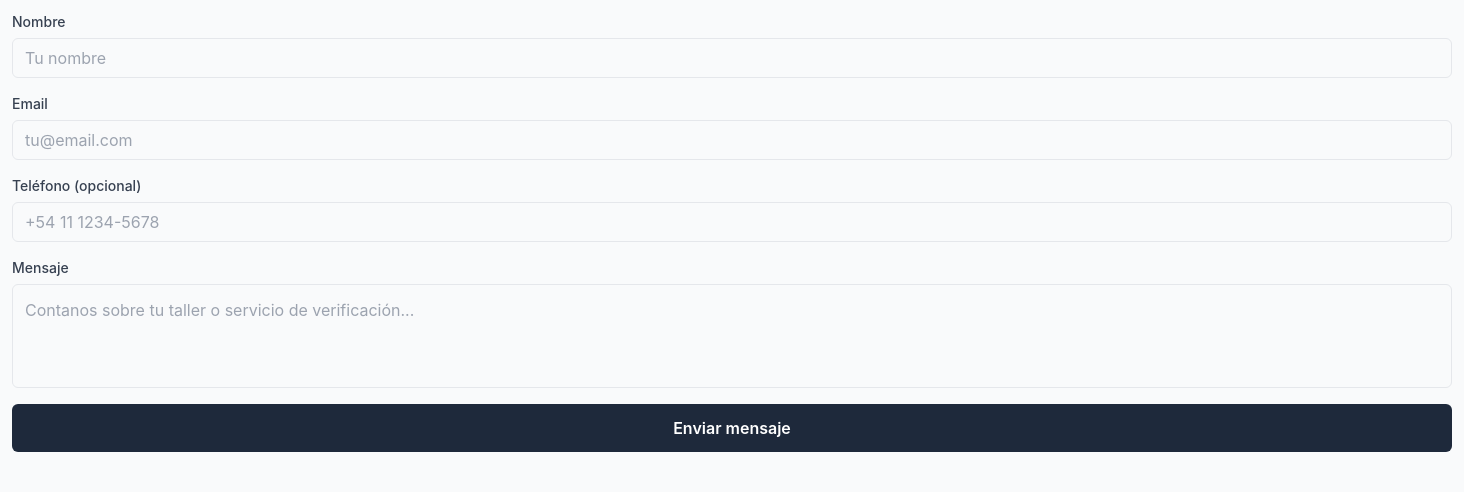
Test: ContactForm › shows validation error for short message
Type "Juan" into the field labelled "Nombre" at (732, 58), box x1=12 y1=38 x2=1452 y2=78
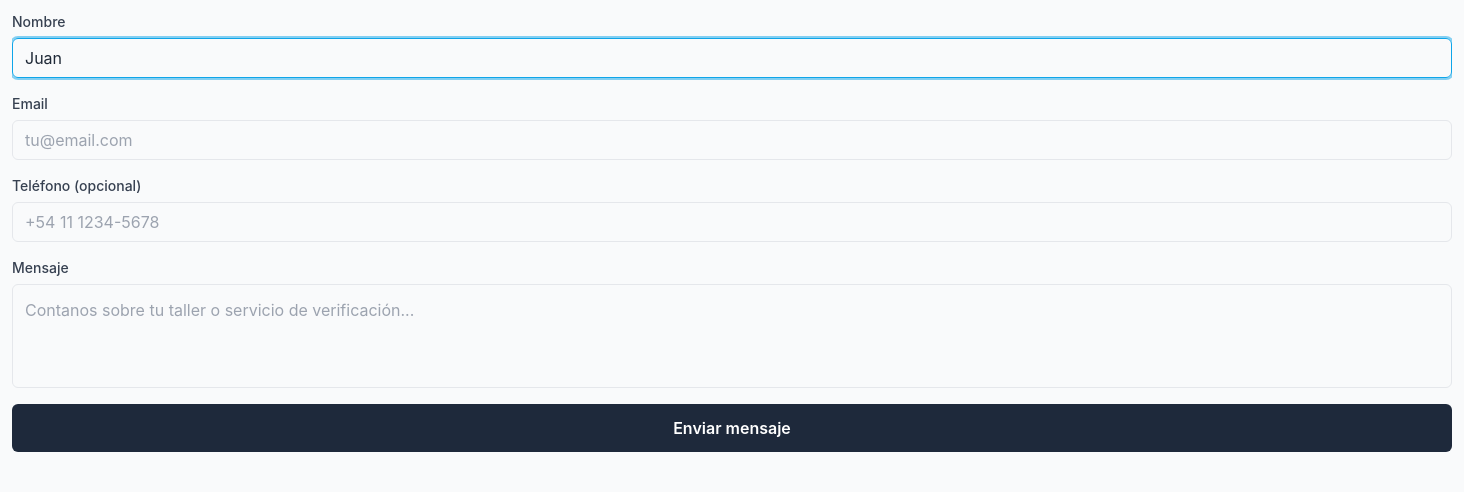
Type "test@test.com" into the field labelled "Email" at (732, 140), box x1=12 y1=120 x2=1452 y2=160
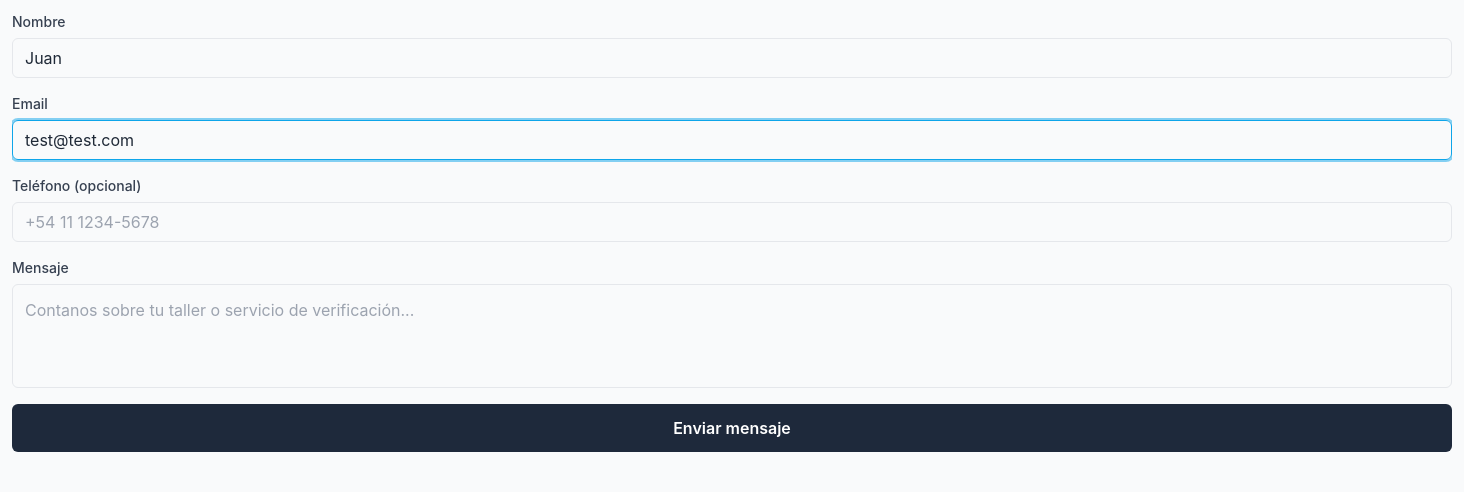
Type "Corto" into the text box labelled "Mensaje" at (732, 336), box x1=12 y1=284 x2=1452 y2=388
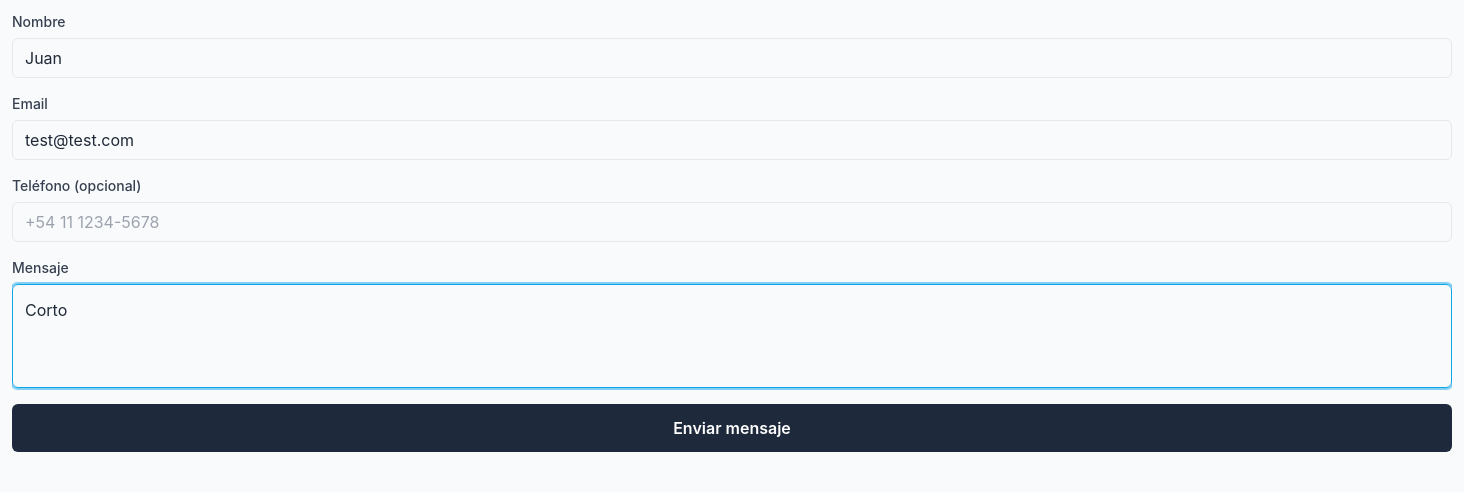
Click the button "Enviar mensaje" at (732, 428), box x1=12 y1=404 x2=1452 y2=452
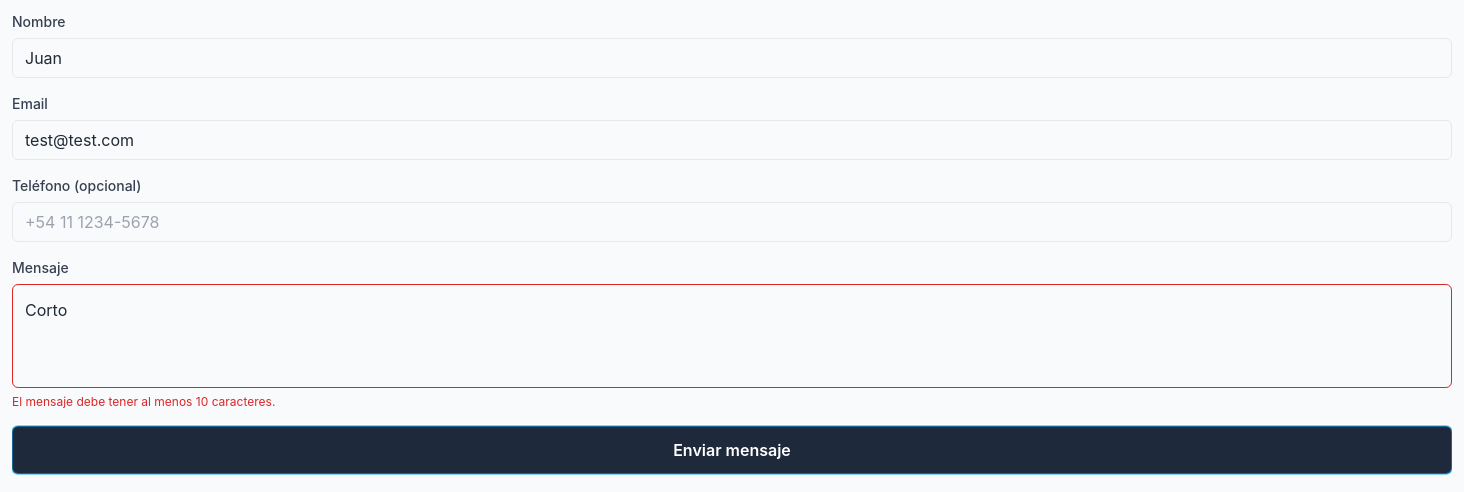
Expected: the text "El mensaje debe tener al menos 10 caracteres." is shown, x1=12 y1=394 x2=275 y2=409
